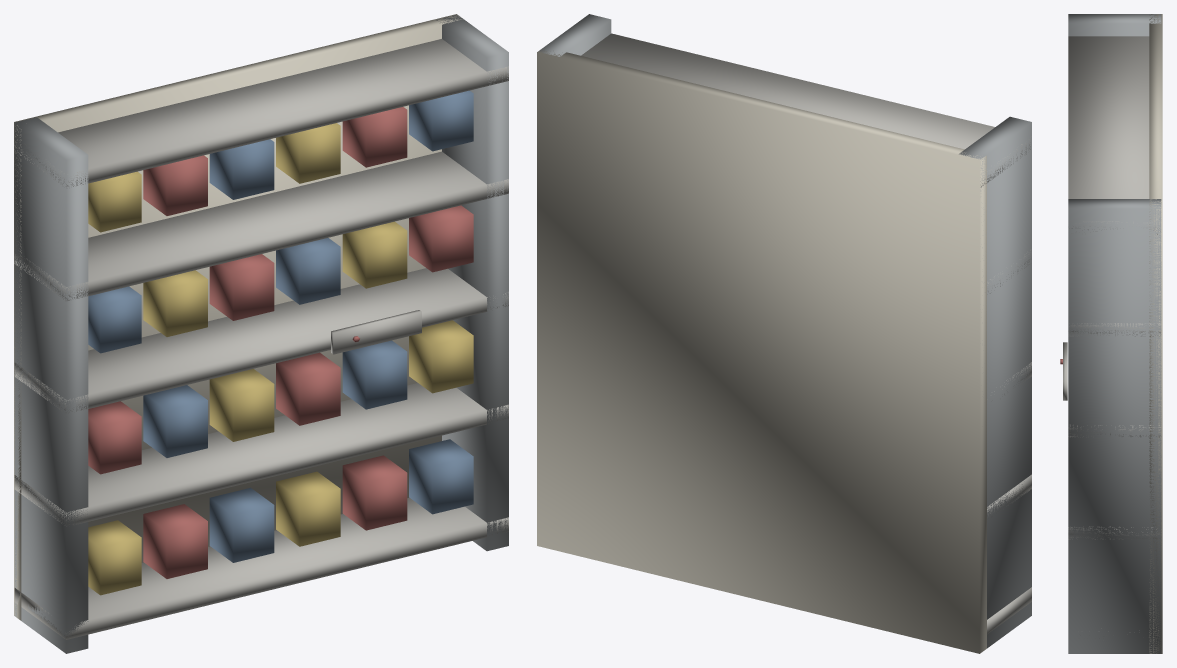
File: pharmacy_shelf__wide.glb
3 renders of one model, left to right at view 1: azimuth 30°, elevation 25°; view 2: azimuth 150°, elevation 25°; view 3: azimuth 270°, elevation 25°, orthographic. The views are drawn at different scales.
Parts seen in each view (by area): view 1: world; view 2: world; view 3: world.
Boxes of the visible parts, x1,y1,x2,y2 form: world: (14,14,508,653); world: (537,14,1031,653); world: (1060,14,1162,653).
Size of the model in its own units: 1.74 by 1.85 by 0.386.
